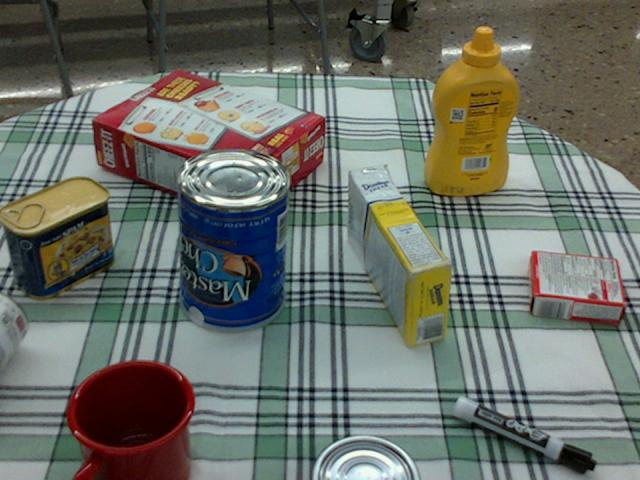cracker_box: (92, 70, 322, 219)
gelatin_box: (527, 251, 623, 325)
large_marker: (453, 395, 594, 472)
master_chef_can: (173, 148, 288, 332)
mug: (60, 357, 189, 479)
mustard_bottle: (423, 27, 517, 194)
potted_meat_can: (0, 176, 113, 298)
sugar_box: (346, 166, 451, 345)
tomato_soup_can: (0, 291, 26, 370)
tuna_fish_can: (308, 437, 418, 479)
